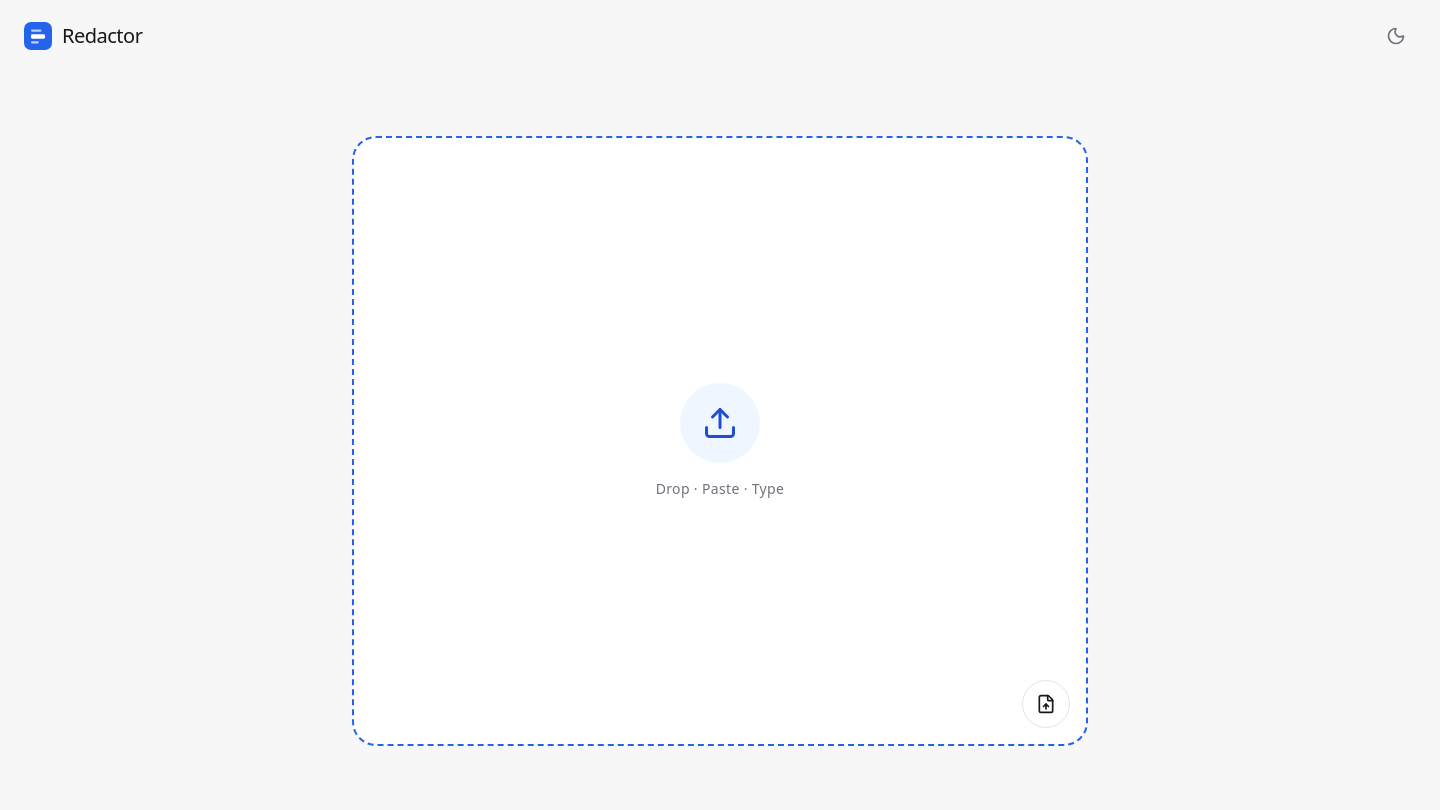
Test: Redactor › opens typed text with the start button
Type "top secret" into the text box named "Text" at (720, 441), box [354, 138, 1086, 744]
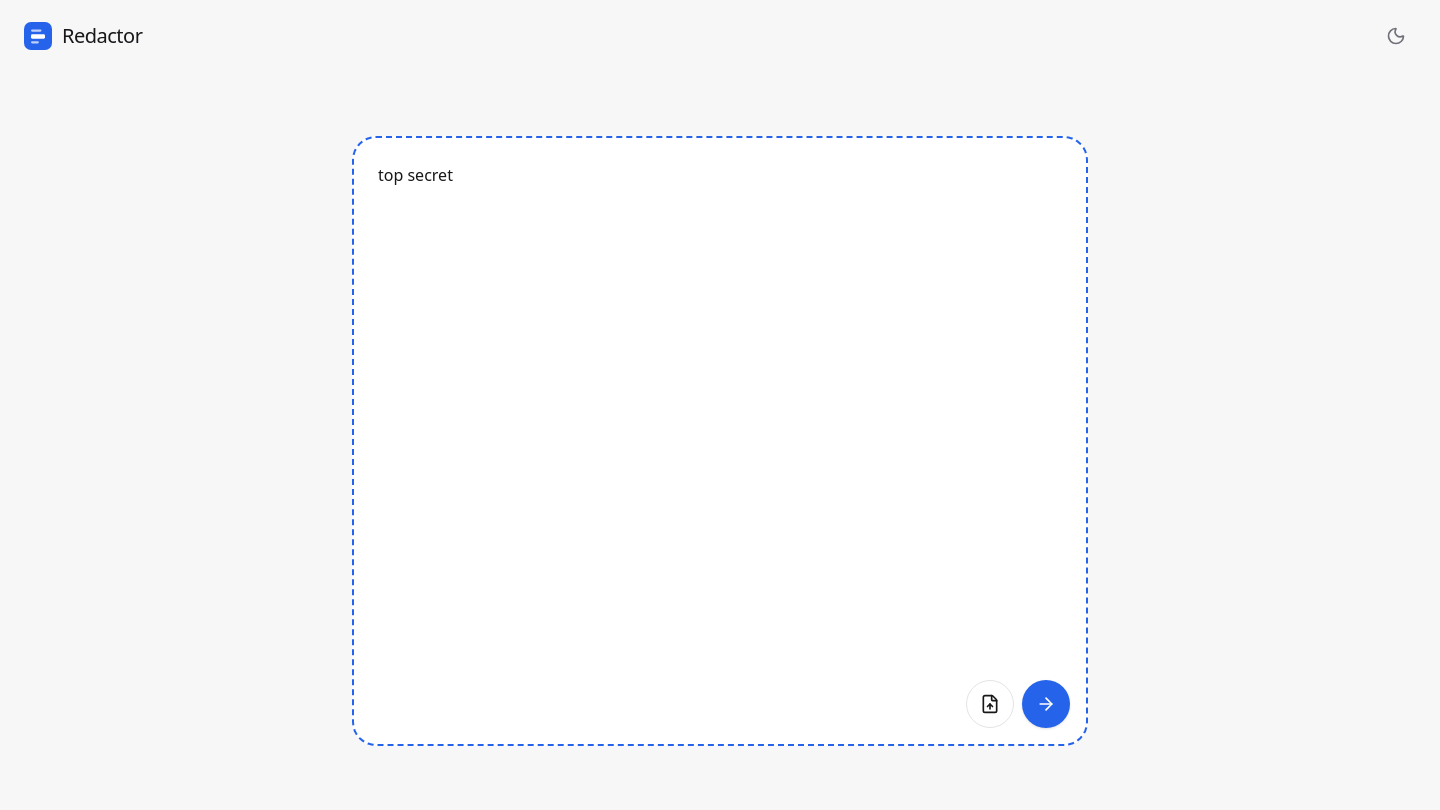
Click the button named "Start" at (1046, 704), box [1022, 680, 1070, 728]
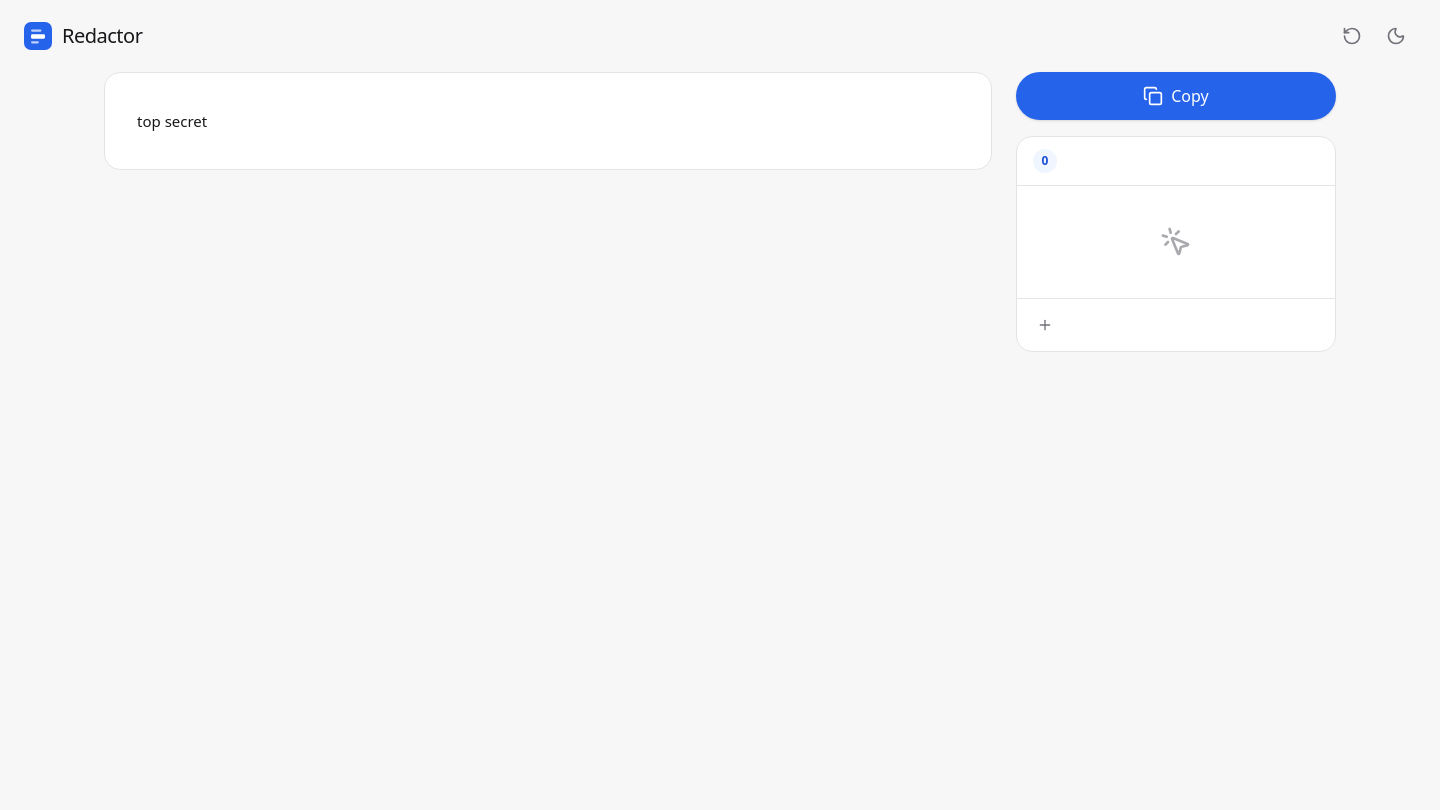
Now the element with test id "viewer" reads "top secret", box [137, 111, 207, 131]
